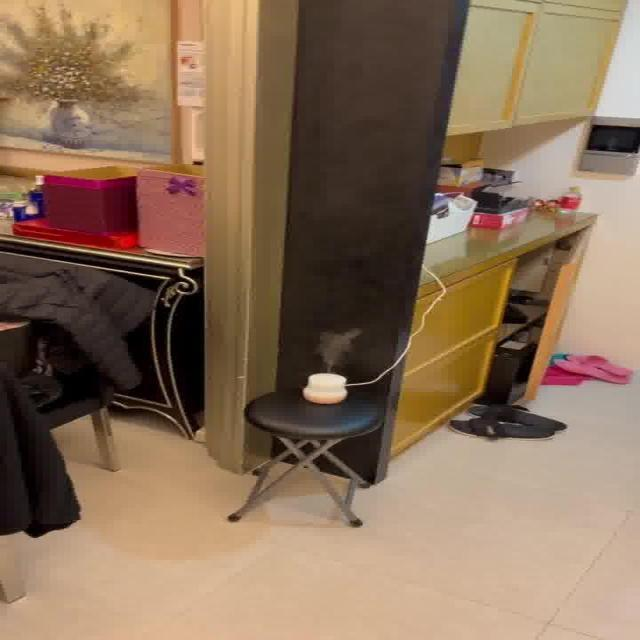fire: (318, 323, 371, 367)
